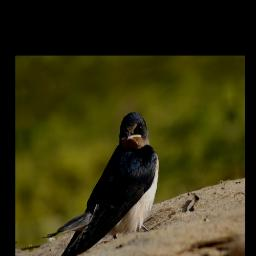Swallow: (32, 108, 168, 256)
